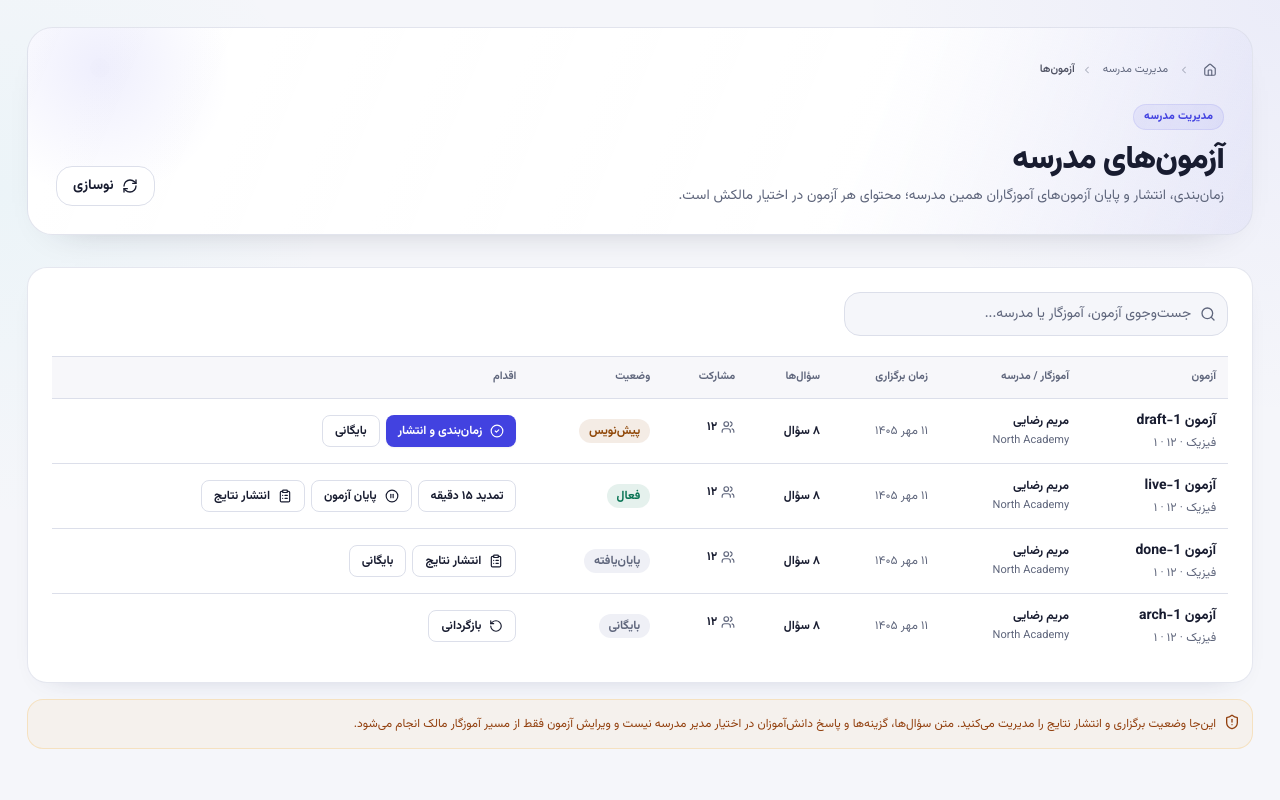
Test case: admin exam lifecycle › publishes through the exam endpoint and reloads the table
This screenshot has width=1280, height=800.
What coordinates should you click on to do the following:
click the button "زمان‌بندی و انتشار"
I would click on:
 (451, 431)
Its box is [386, 415, 516, 447].
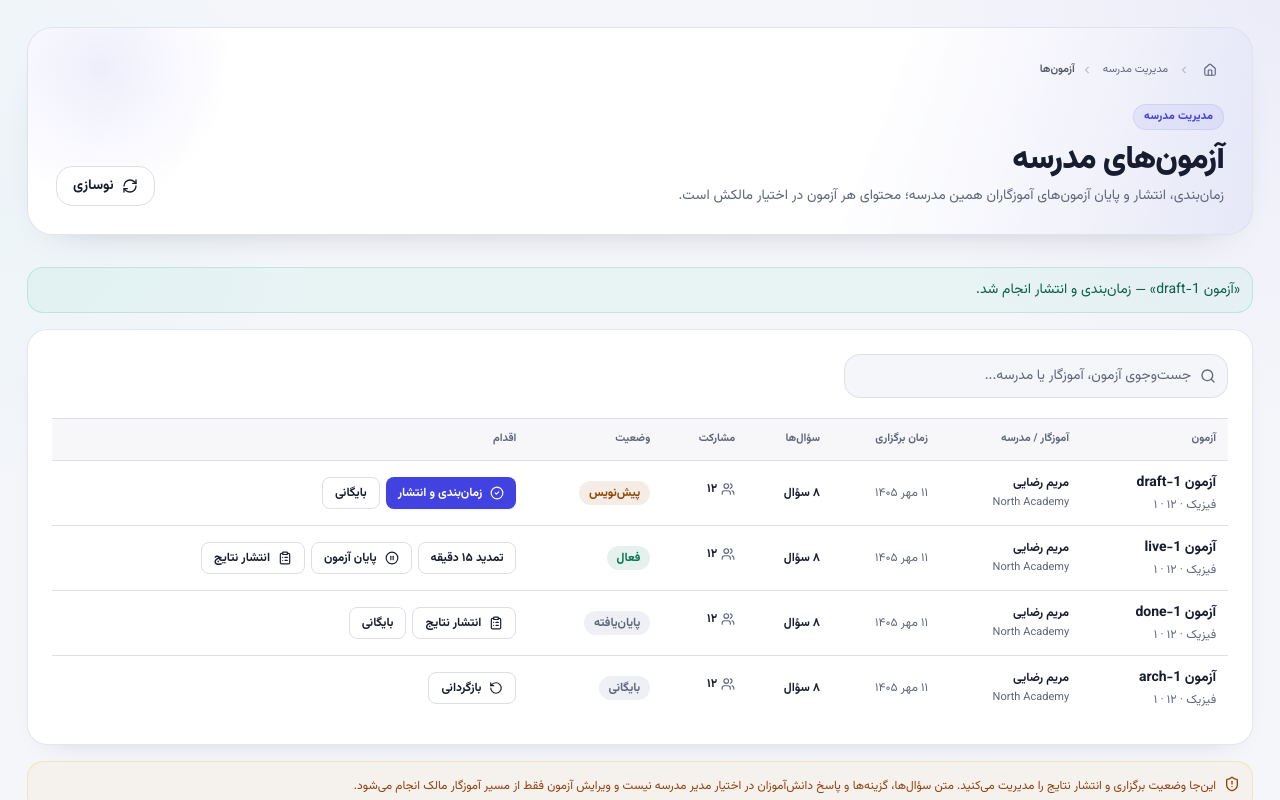
Expected: the text "«آزمون draft-1» — زمان‌بندی و انتشار انجام شد." is shown, [27, 267, 1253, 313]
